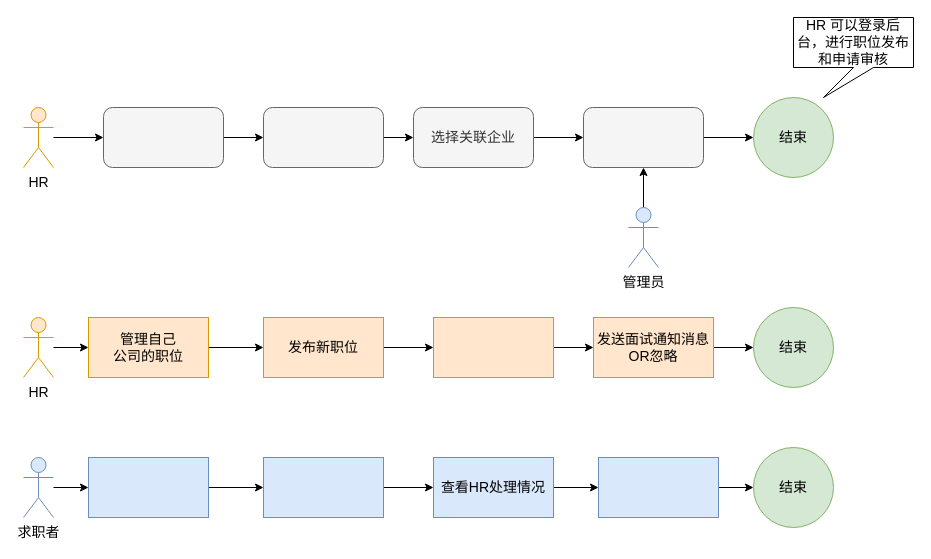
Image size: 931x559. Some labels were removed from this diagram. The shapes that lost their labels are listed below. From the top down, each one's centre as x and y in pixels, then its label:
(163,137): 实名认证
(323,137): 保证金充值
(643,137): 审核通过
(493,347): 查看用户申请
(148,487): 搜索职位
(323,487): 发起岗位申请
(658,487): 线下面试OR另寻其他职位
